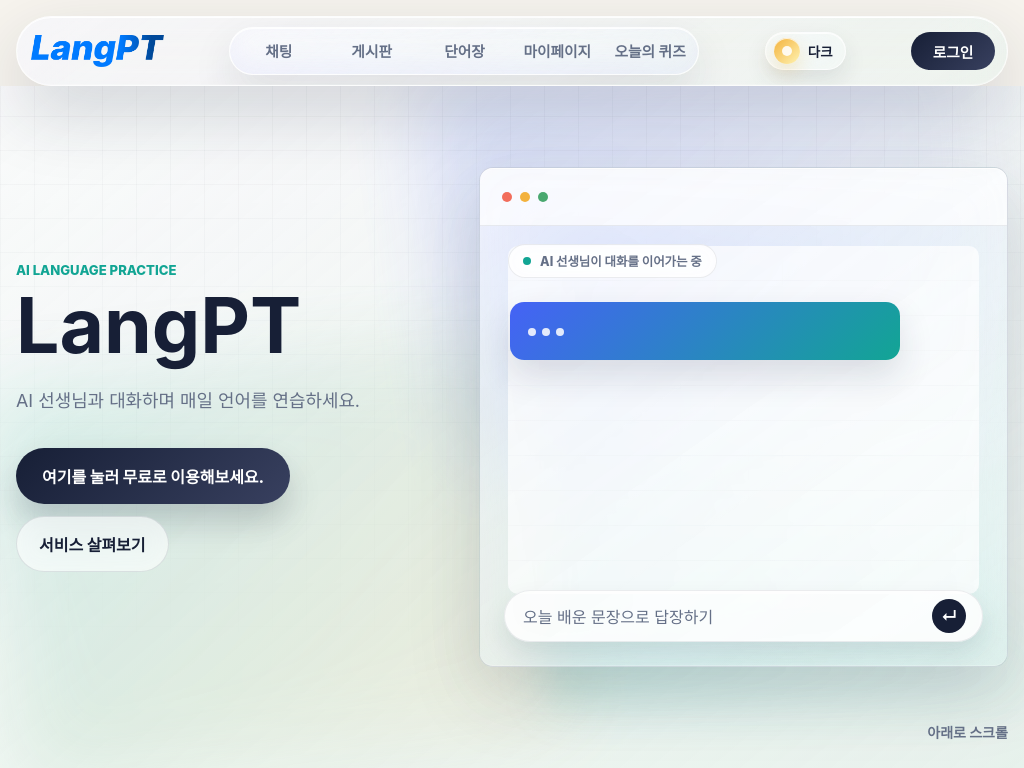
Test: logs in with one click and stores a local demo session
Click the link "여기를 눌러 무료로 이용해보세요." at {"x": 153, "y": 476}, box [16,448,290,504]
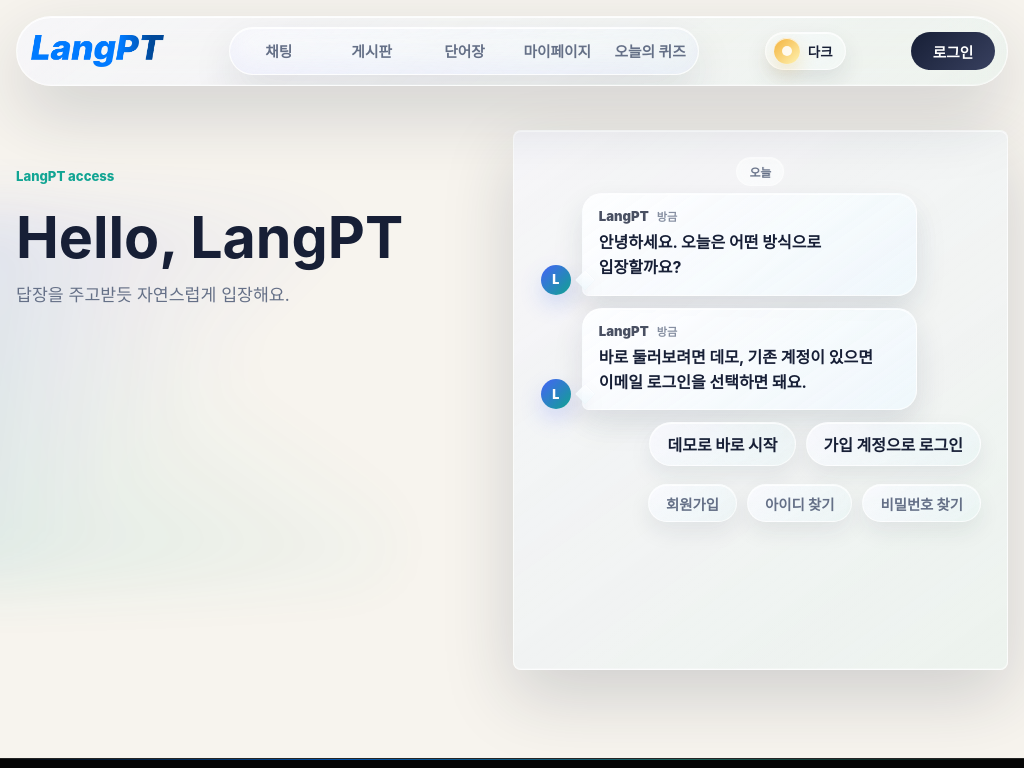
Click the button "데모로 바로 시작" at {"x": 722, "y": 444}, box [650,422,796,466]
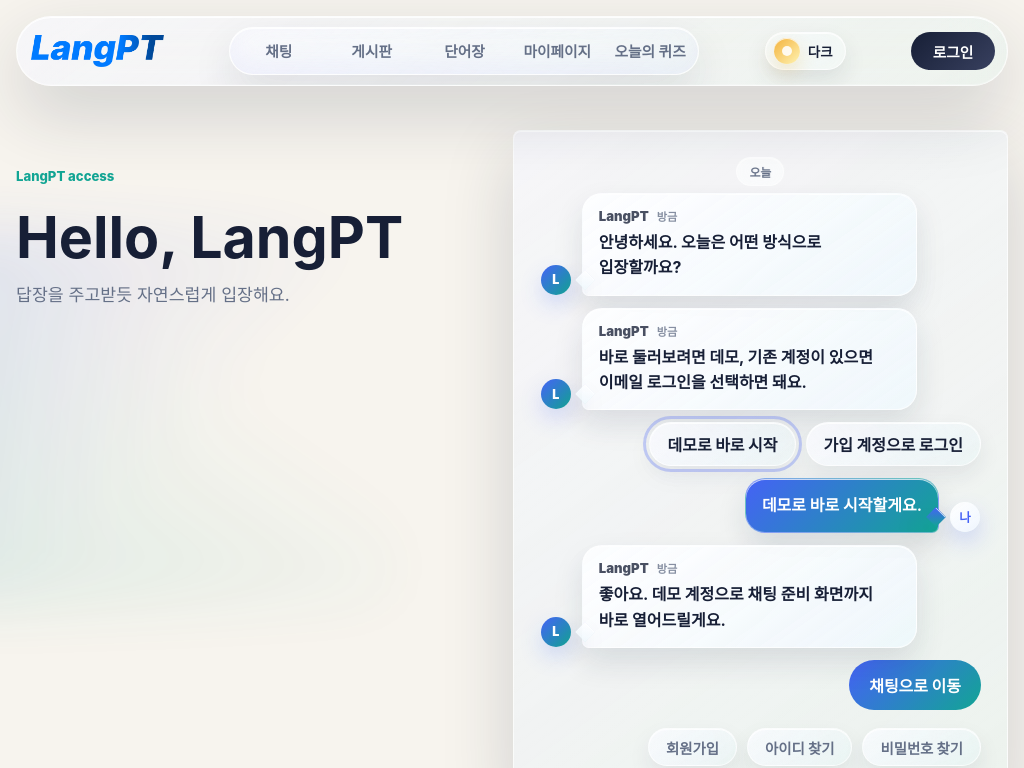
Click the button "채팅으로 이동" at {"x": 915, "y": 685}, box [849,660,981,710]
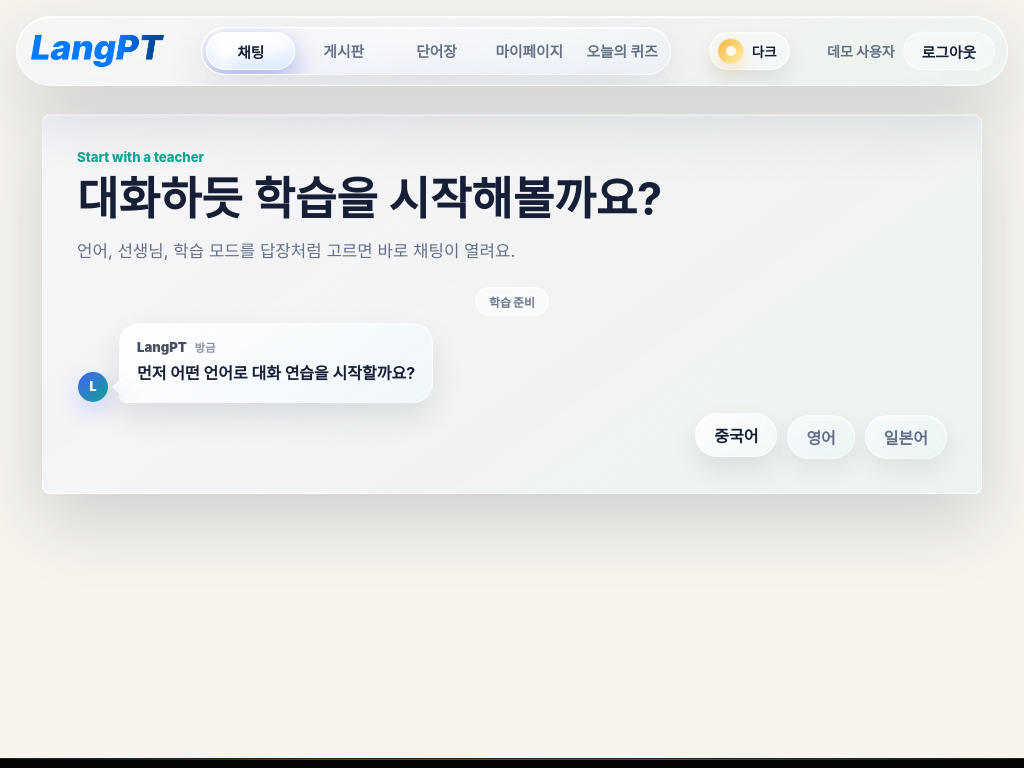
expect the text "데모 사용자" is shown: met, box [827,41,895,61]
expect the button "로그아웃" is shown: met, box [903,32,995,70]
